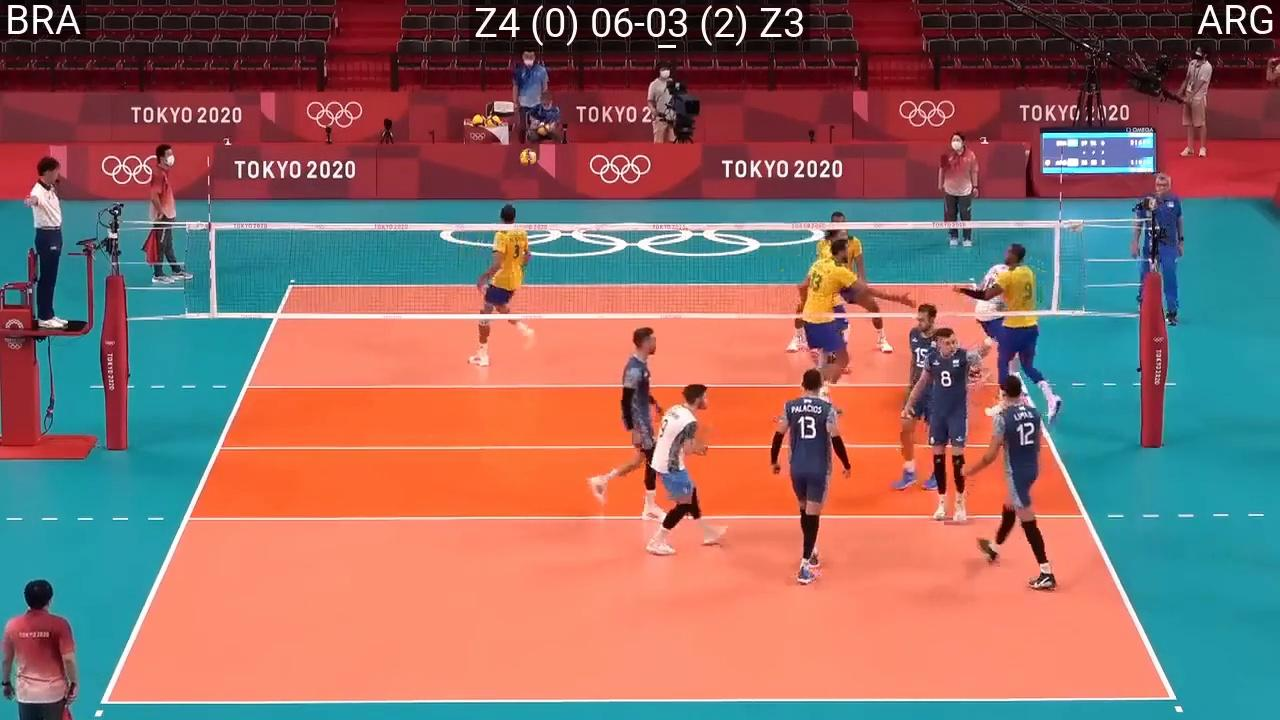ball: (518, 149, 537, 165)
